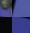grenade: (0, 0, 12, 17)
